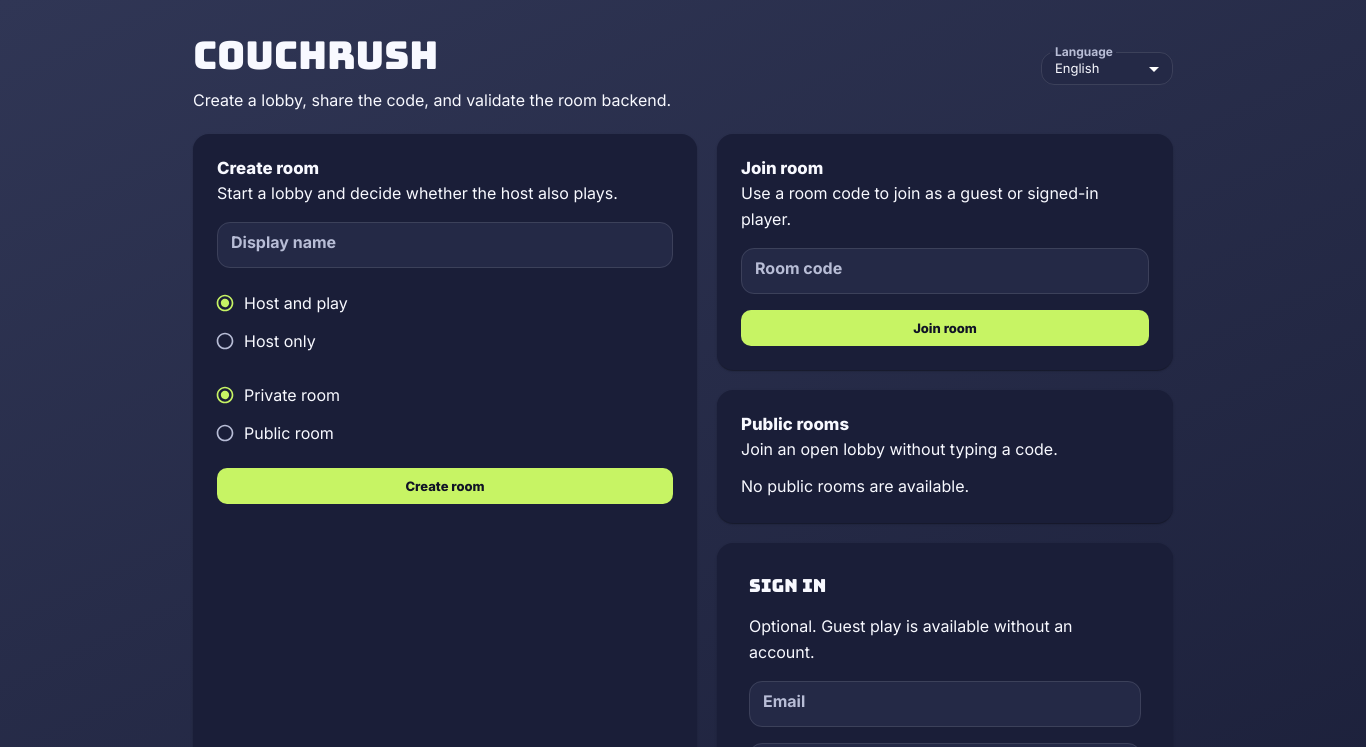
game-web app › creates a room as host-player
The width and height of the screenshot is (1366, 747).
Type "Host" into the field labelled "Display name" at (445, 245), box [217, 225, 673, 265]
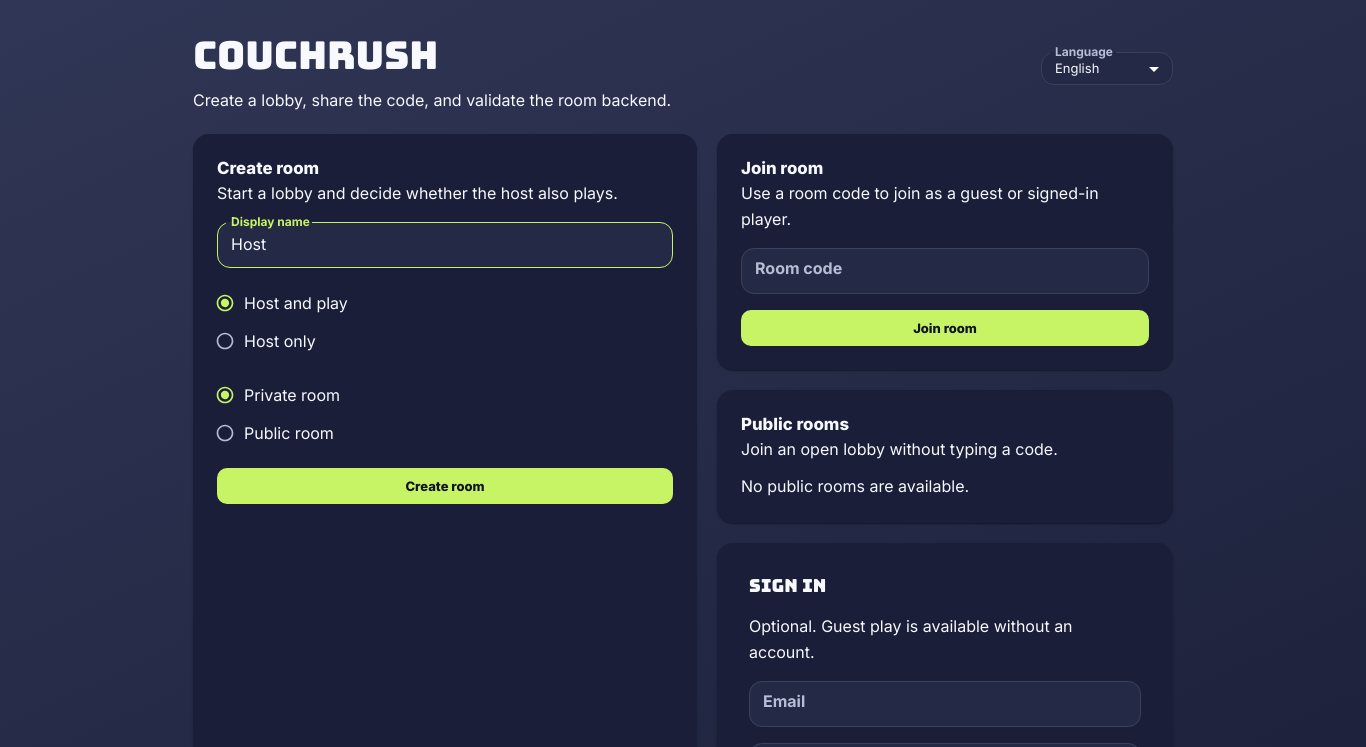
Click the button "Create room" at (445, 486), box [217, 468, 673, 504]
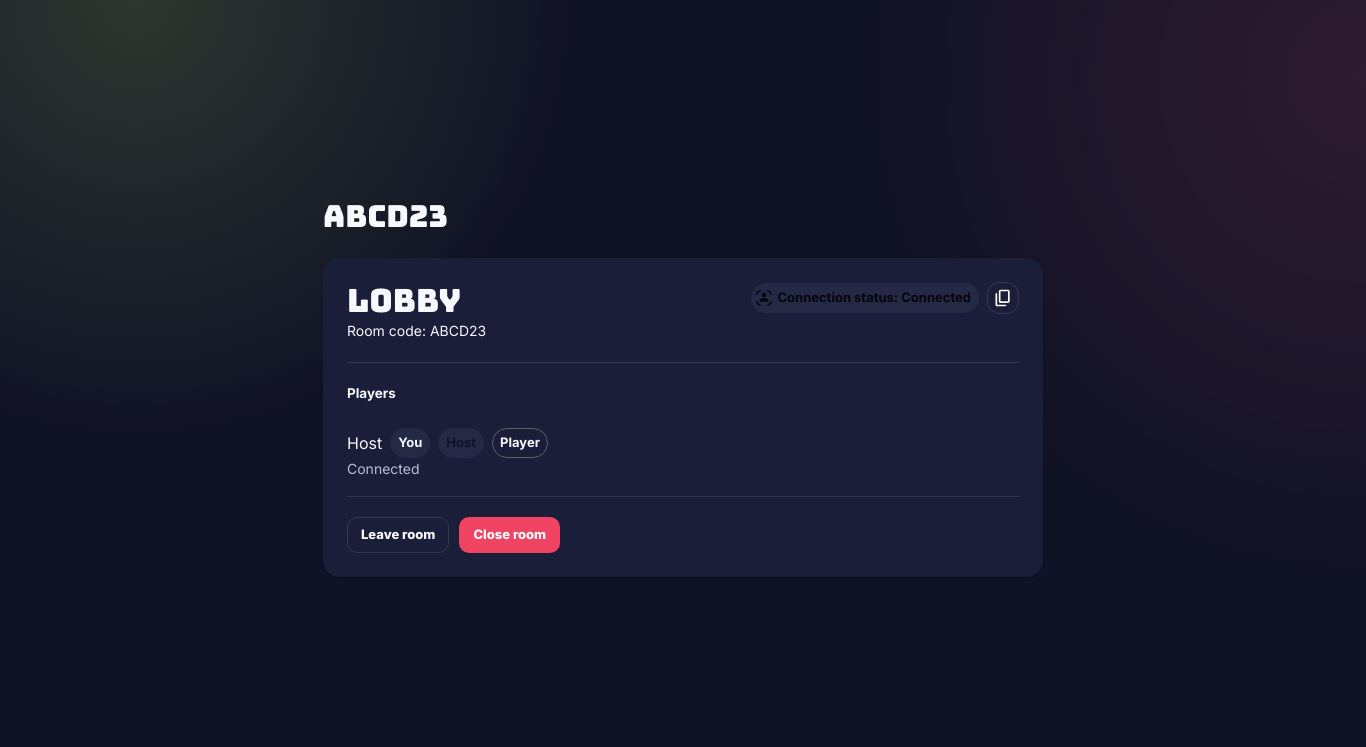
Result: the text "Player" is shown at [500, 434, 540, 450]
